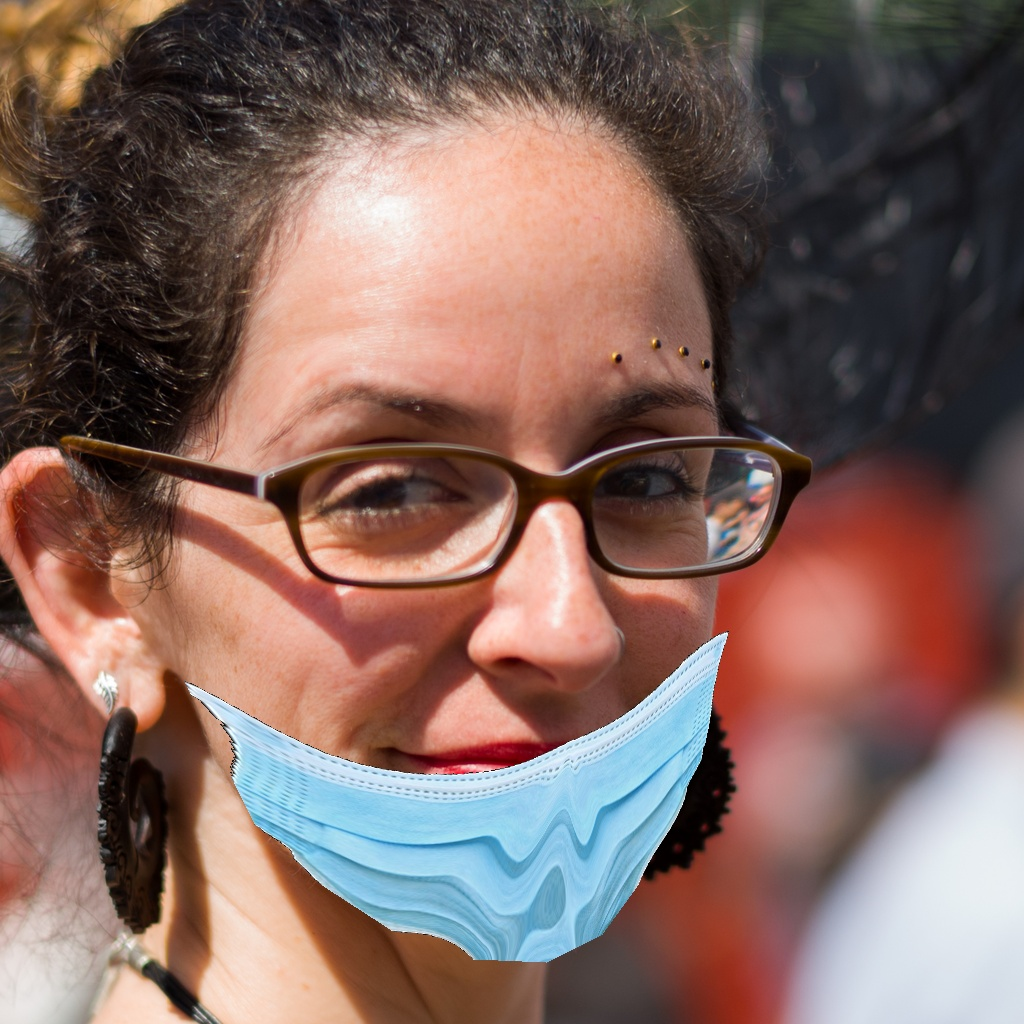mascarilla_mal_puesta: (137, 343, 684, 995)
